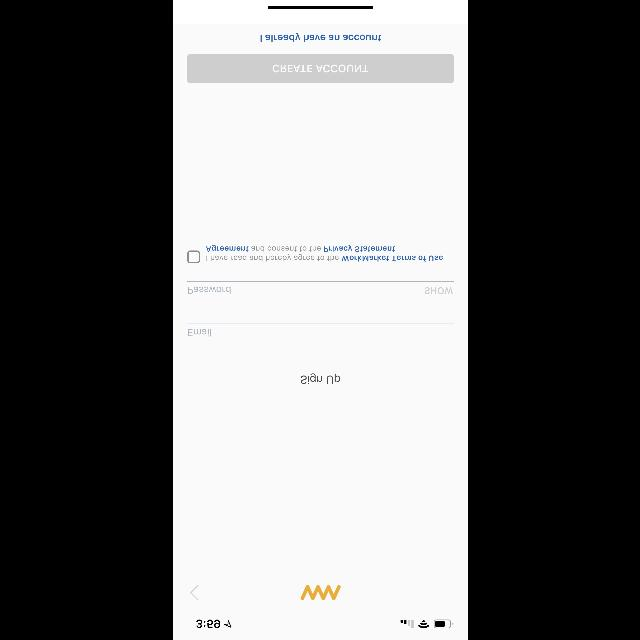checkbox: (187, 250, 200, 264)
icon: (190, 584, 198, 600)
image: (300, 584, 340, 600)
input: (187, 282, 453, 294), (187, 324, 453, 336)
text: (205, 245, 442, 261), (260, 34, 380, 42), (300, 374, 340, 384), (188, 286, 230, 294), (424, 286, 452, 294), (188, 329, 210, 337)
textbutton: (187, 55, 453, 83)
uppertaskbar: (196, 620, 452, 628)
